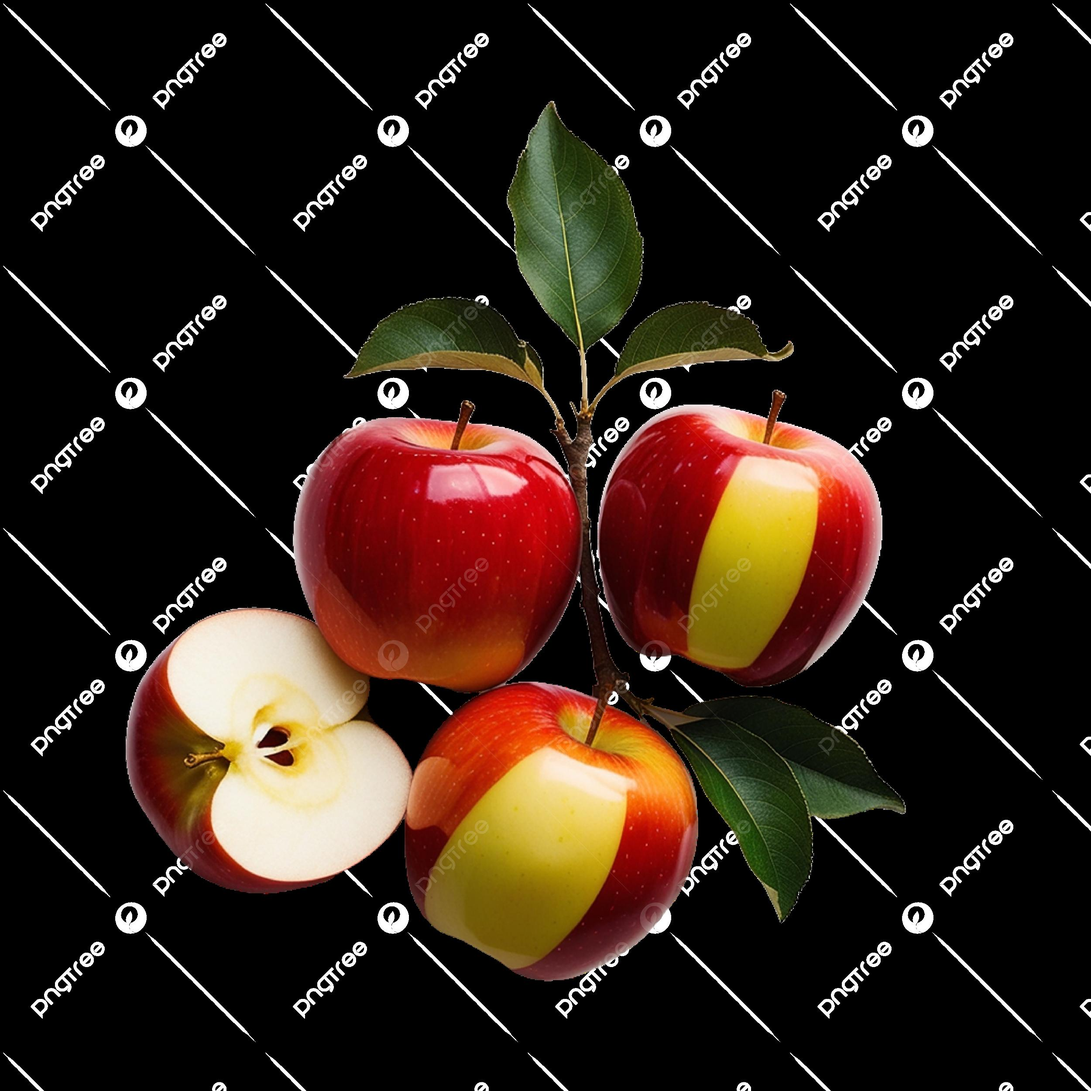apples: (85, 94, 922, 1004)
